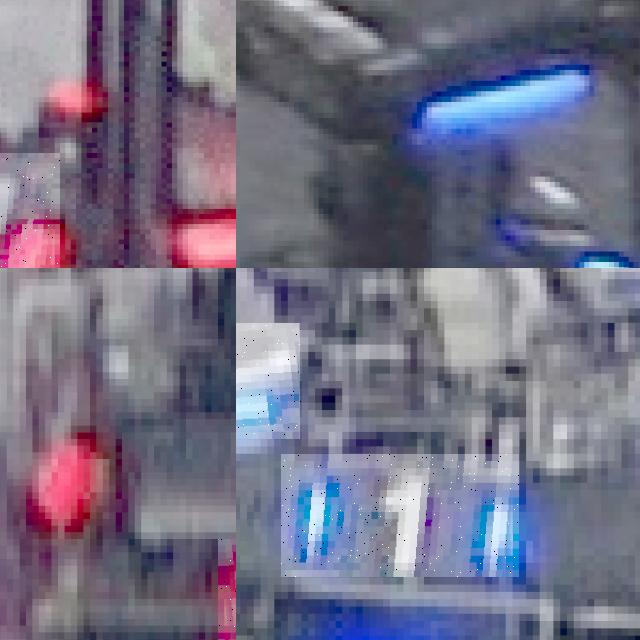B1: (281, 454, 519, 577), (236, 322, 301, 439)
R1: (0, 152, 59, 268)
